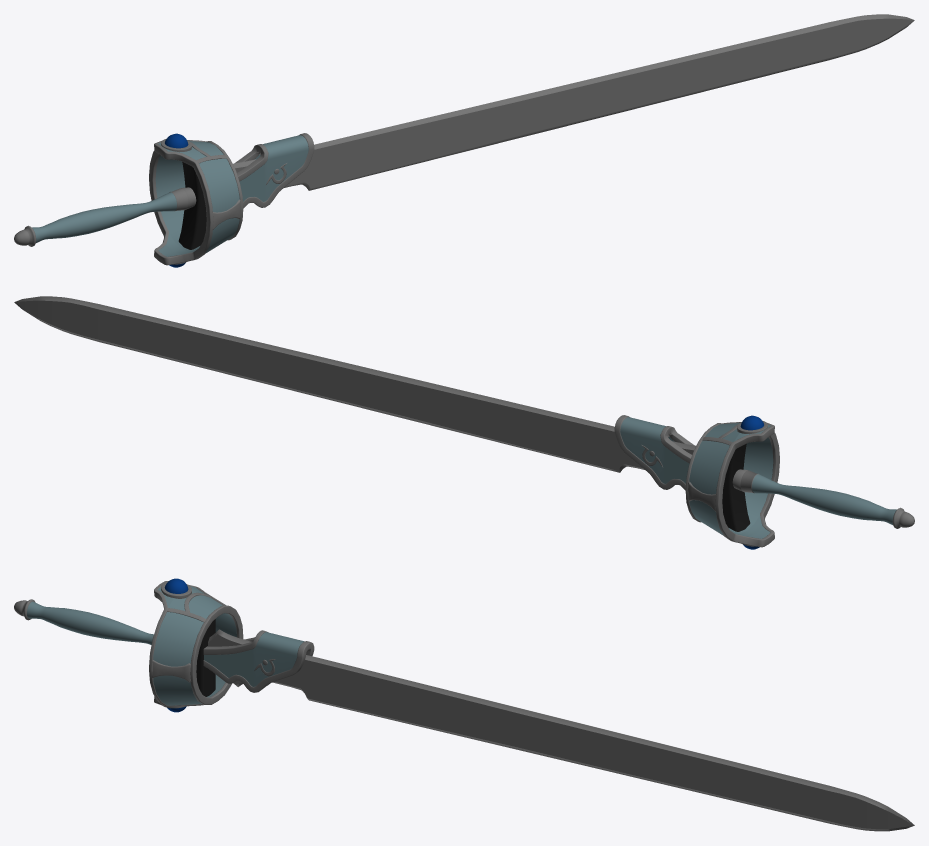
The model's file is sword.obj.
3 renders of one model, top to bottom at view 1: azimuth 30°, elevation 25°; view 2: azimuth 150°, elevation 25°; view 3: azimuth 330°, elevation 25°, orthographic.
Bounding box in the file's own units: 190 × 26.63 × 22.67.
